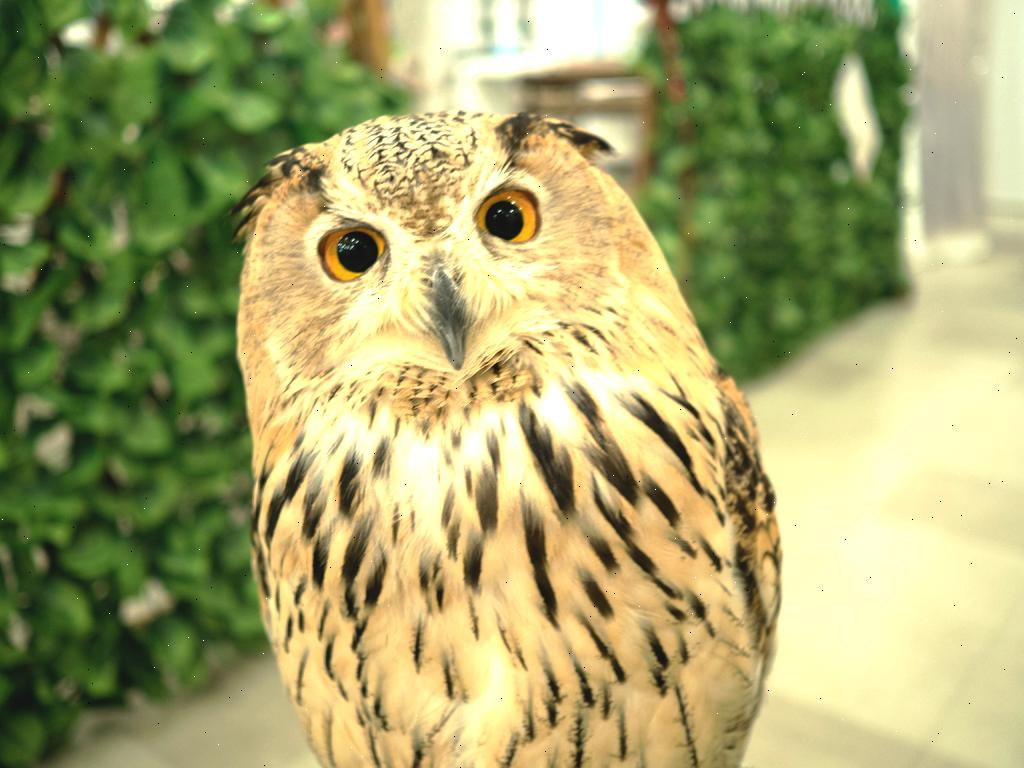Owl: (230, 109, 776, 768)
